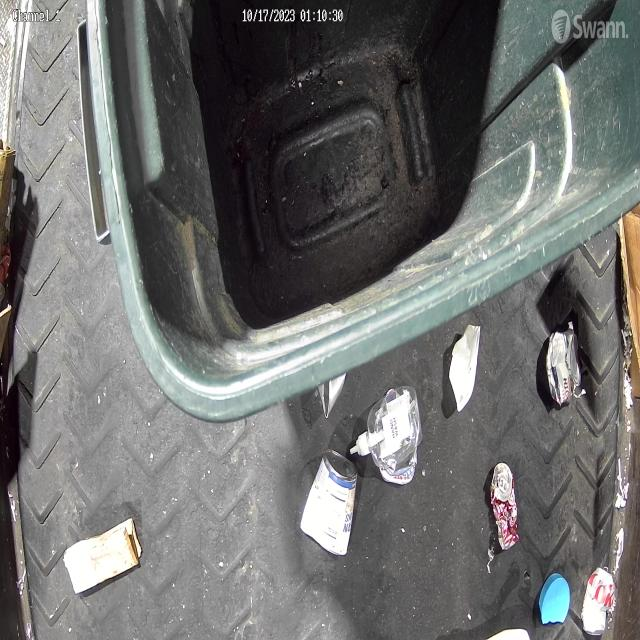can: (300, 448, 357, 554), (490, 462, 521, 552), (582, 564, 619, 636), (547, 329, 581, 406), (316, 376, 346, 418)
